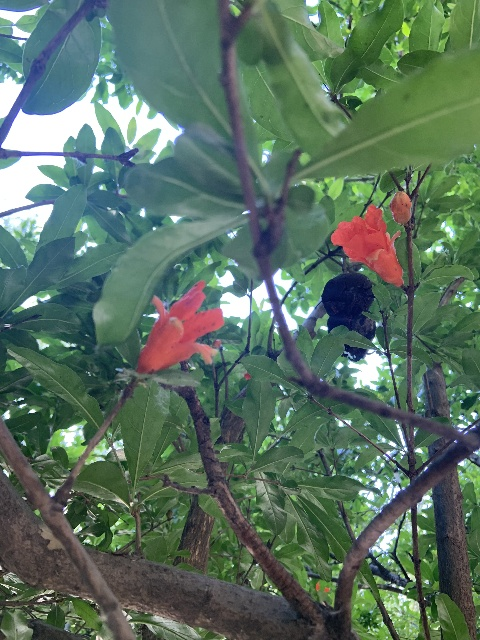bud: (389, 190, 411, 225), (212, 339, 221, 347)
flower: (137, 279, 224, 373), (331, 203, 404, 286)
